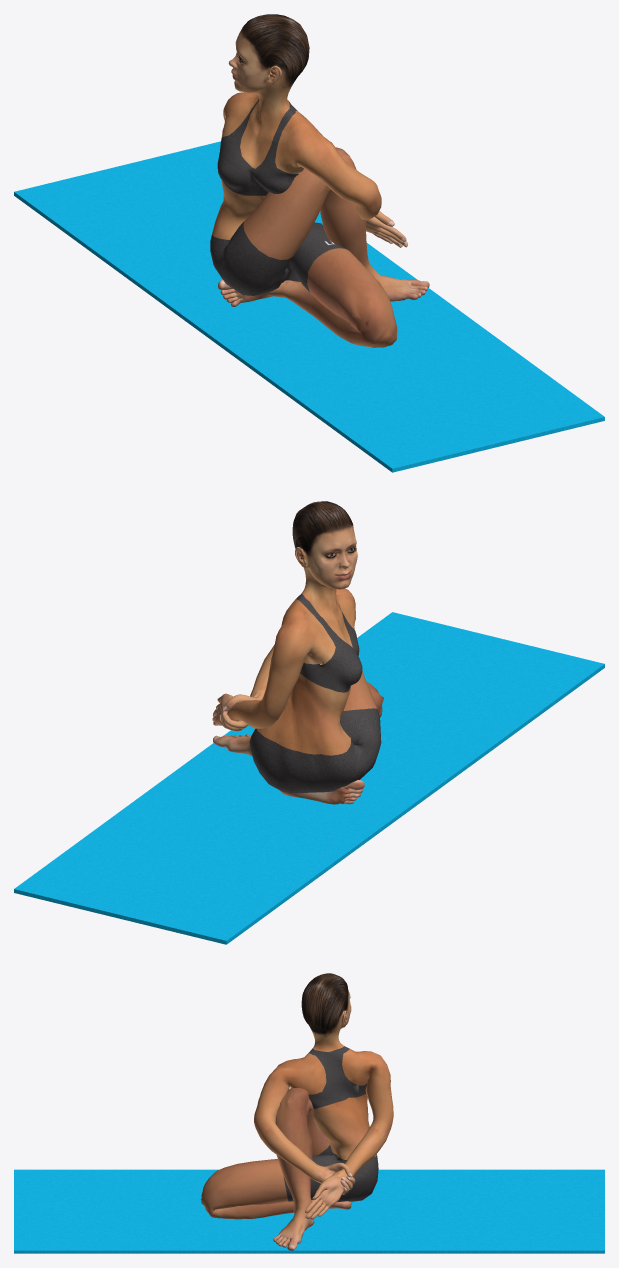
File: matsyasana.glb
3 views of the same model, one above another, from view 1: azimuth 30°, elevation 25°; view 2: azimuth 150°, elevation 25°; view 3: azimuth 270°, elevation 25° (orthographic). The views are drawn at different scales.
Visible parts, largest first — view 1: Mat-one-piece_jpg-material, Lily_Texture01_06_2016_jpg-material; view 2: Mat-one-piece_jpg-material, Lily_Texture01_06_2016_jpg-material; view 3: Mat-one-piece_jpg-material, Lily_Texture01_06_2016_jpg-material.
Boxes of the visible parts, x1,y1,x2,y2 form: Mat-one-piece_jpg-material: (14,141,604,472); Lily_Texture01_06_2016_jpg-material: (210,14,429,347); Mat-one-piece_jpg-material: (14,612,604,944); Lily_Texture01_06_2016_jpg-material: (212,501,383,804); Mat-one-piece_jpg-material: (14,1169,604,1253); Lily_Texture01_06_2016_jpg-material: (201,973,393,1250).
Size of the model in its own units: 2.01 by 2.6 by 6.17.
Materials: 3 (2 with a texture image).
